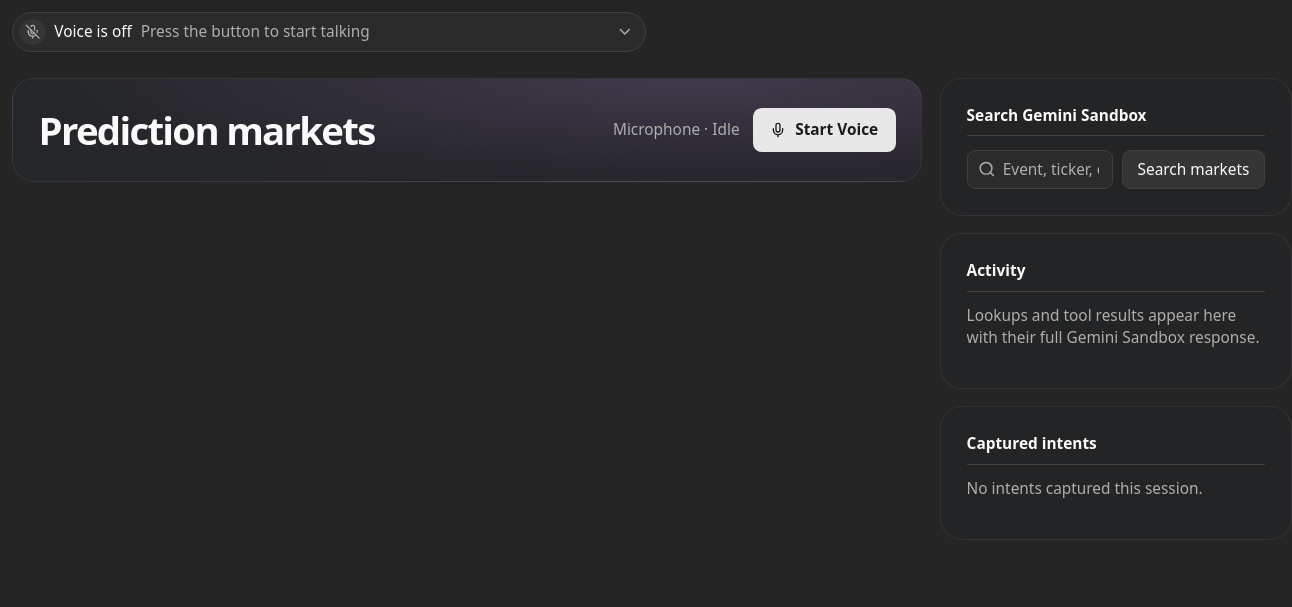
Test: preserves a correction arriving after the turn was stored and closes the session
Later steps or results of the test are not shown.
What coordinates should you click on to do the following:
click the button "Start Voice"
I would click on:
 (824, 130)
Its box is [753,108,896,152].
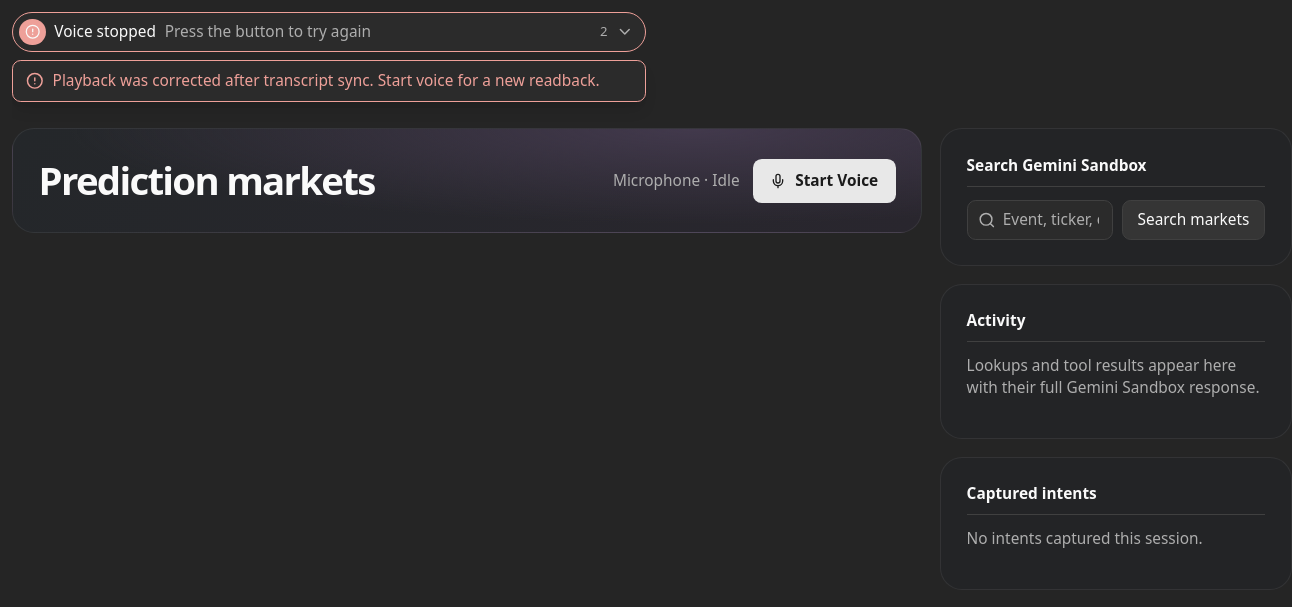
Result: the message "Playback was corrected after transcript sync. Start voice for a new readback." is shown at [12,60,646,102]
